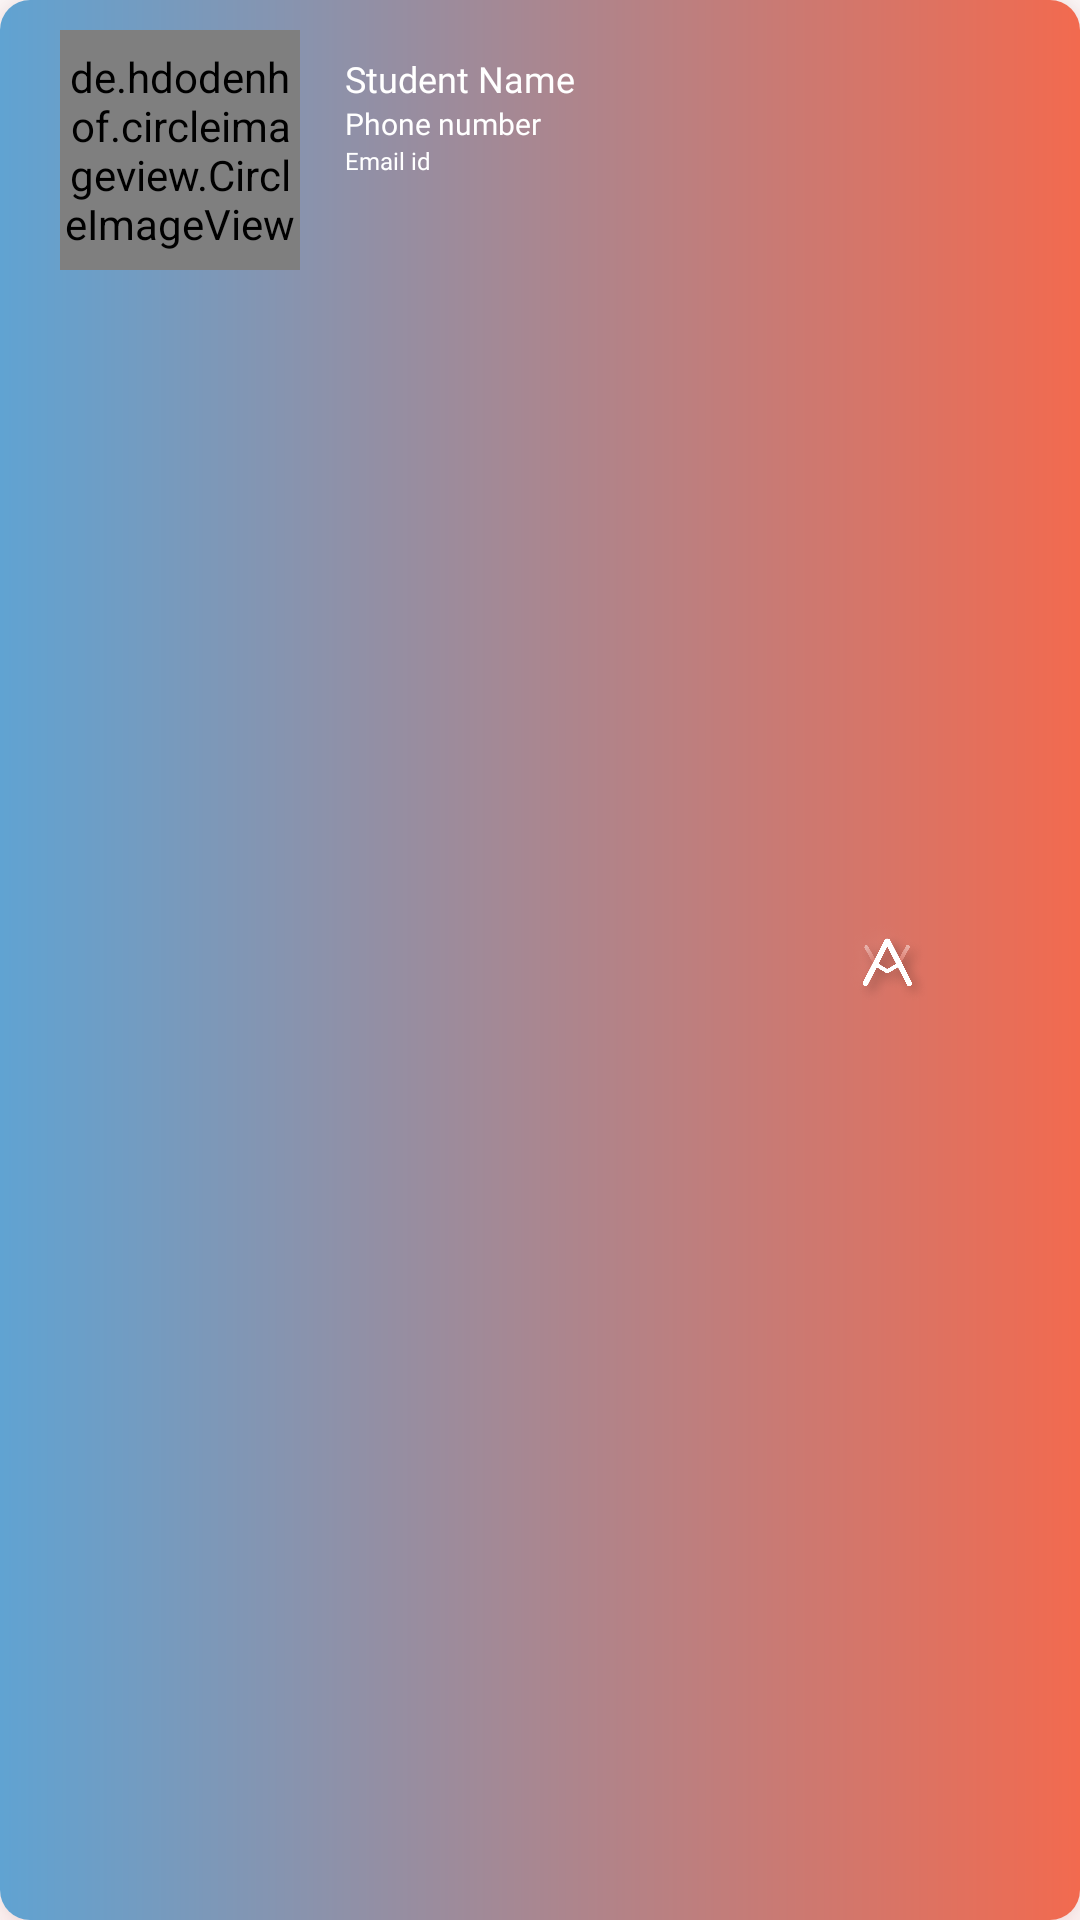

Screen size 1080 × 1920. Icon name, then its box in pixels as (x1=x1, y1=y1, x2=x2, y2=y2):
attendxvector: (x1=863, y1=938, x2=913, y2=988)
